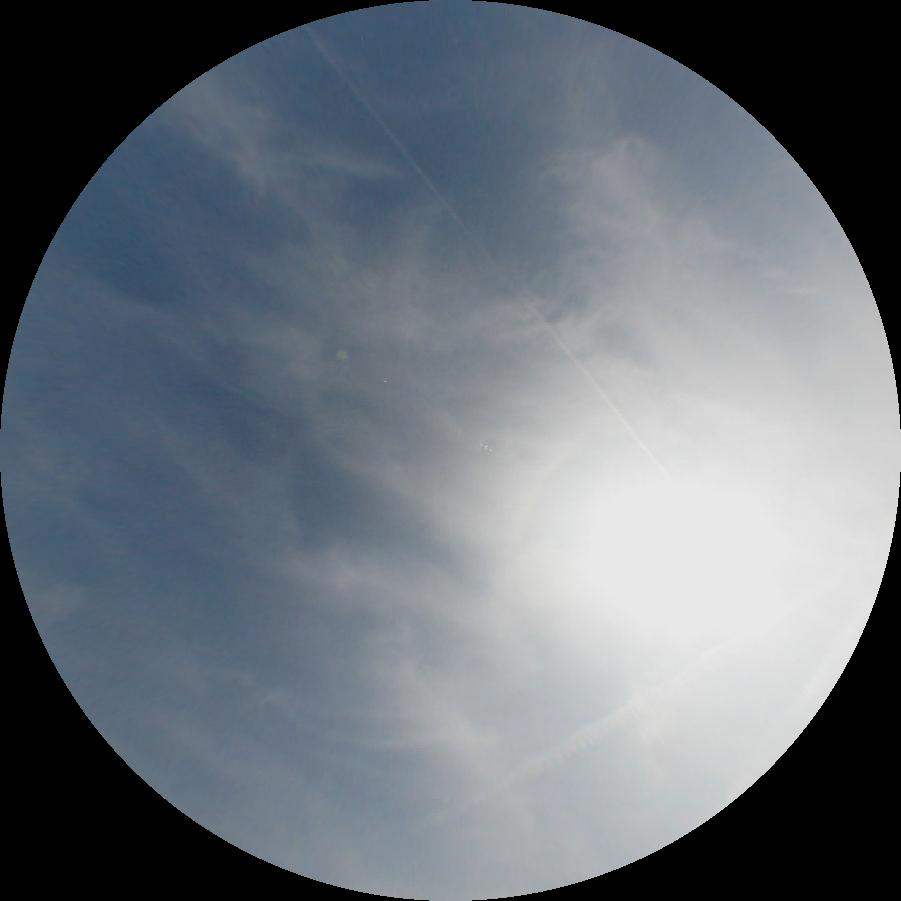contrail veryold: (435, 696, 649, 835)
contrail young: (300, 21, 665, 476)
sun: (562, 446, 819, 667)
